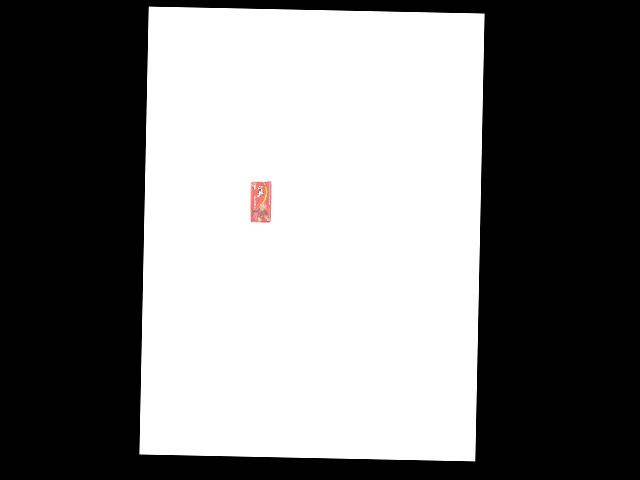chocolate: (250, 178, 273, 223)
